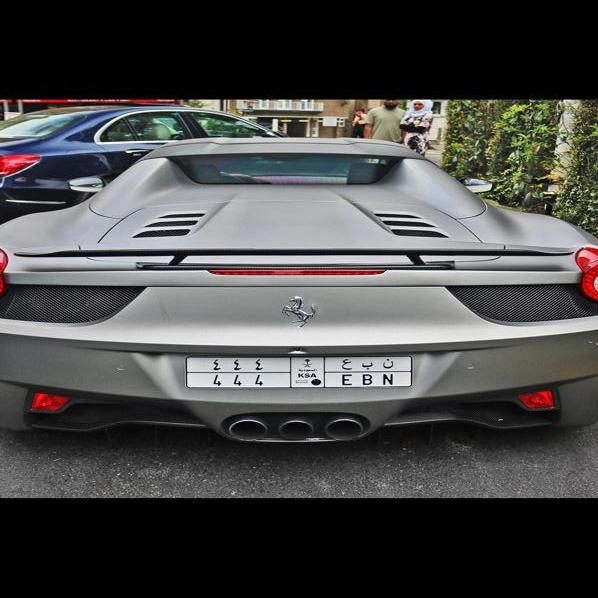numberplate: (188, 356, 408, 389)
